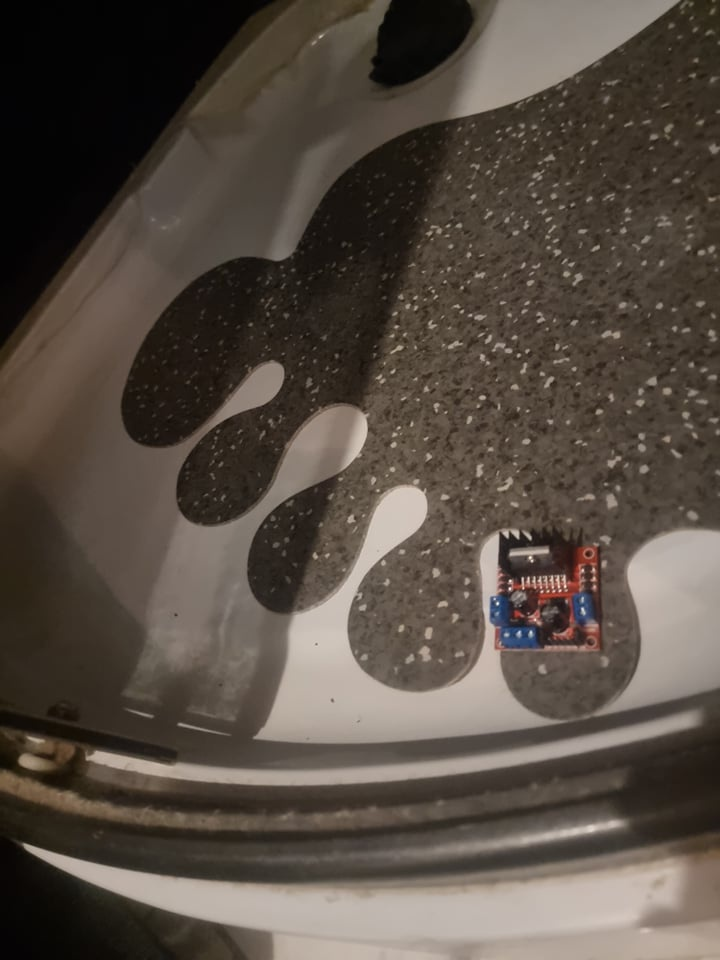MOTOR: (486, 532, 606, 652)
